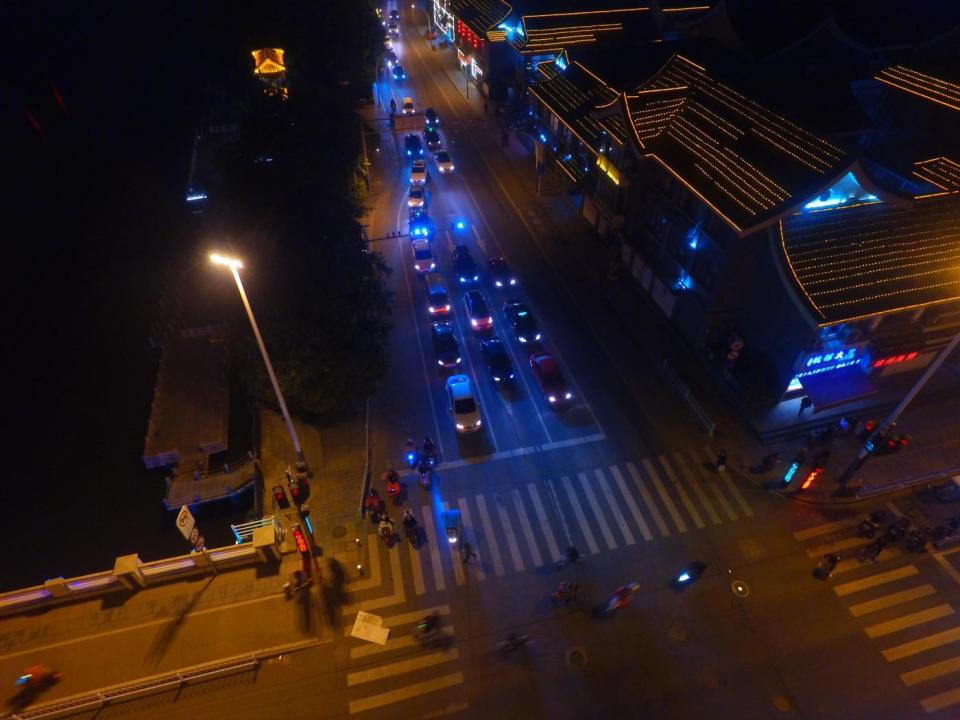car: (529, 351, 576, 412), (444, 372, 482, 434), (479, 336, 516, 388), (502, 298, 541, 346), (430, 319, 462, 370), (462, 290, 493, 331), (450, 245, 480, 286), (486, 257, 518, 292), (411, 238, 437, 274), (408, 209, 432, 240), (431, 148, 454, 174), (409, 160, 430, 185), (404, 133, 424, 159), (406, 184, 426, 209), (422, 126, 441, 148), (423, 106, 440, 128), (401, 96, 416, 118), (391, 64, 406, 82), (371, 12, 385, 27), (386, 50, 398, 67), (386, 21, 400, 35), (378, 34, 392, 48), (424, 28, 437, 39), (389, 9, 400, 21)
van: (422, 272, 450, 317)
